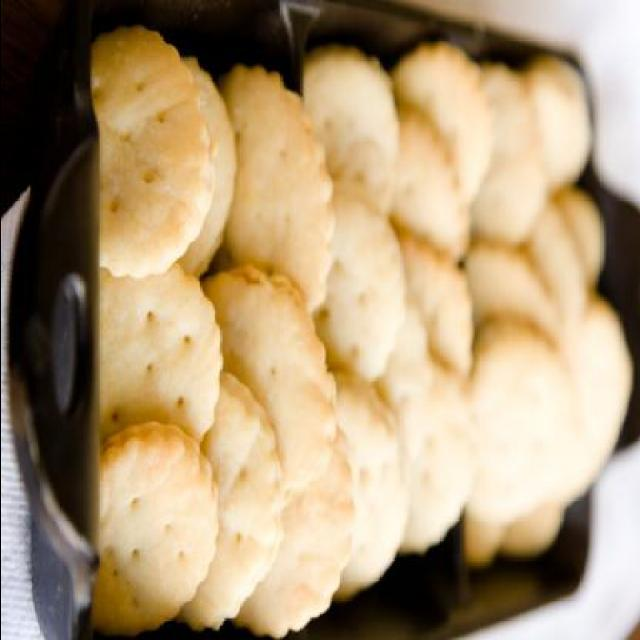Ritz cracker packaged: (95, 31, 591, 638)
